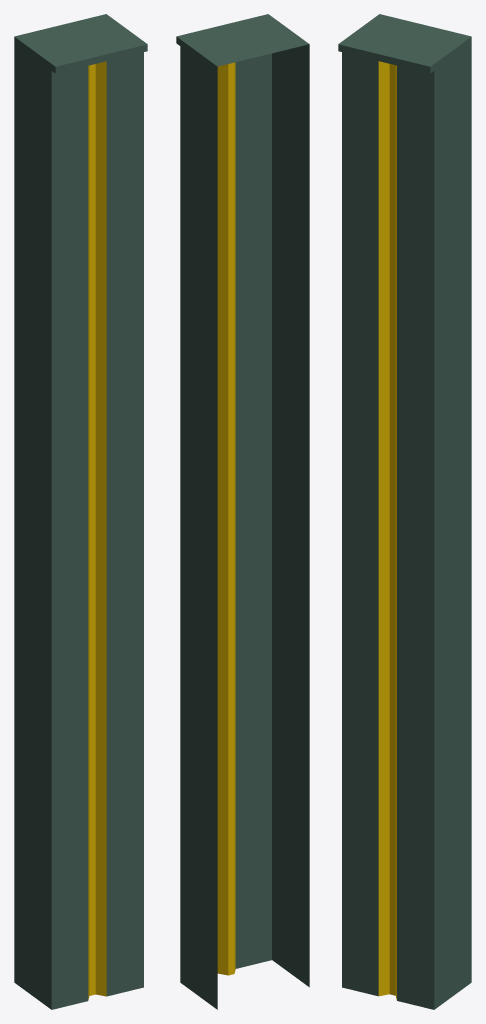
The picture shows the model from 3 angles, left to right: view 1: azimuth 30°, elevation 25°; view 2: azimuth 210°, elevation 25°; view 3: azimuth 330°, elevation 25°; orthographic projection.
Parts seen in each view (by area): view 1: Column.056; view 2: Column.056; view 3: Column.056.
Boxes of the visible parts, x1,y1,x2,y2 form: Column.056: [14, 14, 147, 1009]; Column.056: [176, 14, 309, 1009]; Column.056: [338, 14, 471, 1009].
Size of the model in its own units: 278 by 2729 by 217.
